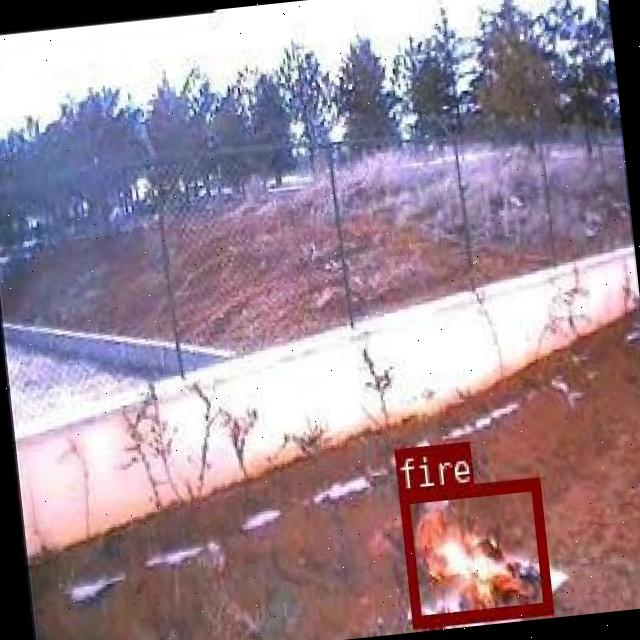fire: (398, 475, 550, 624)
